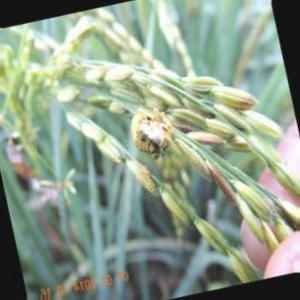Leaf_Scald: (136, 115, 176, 159)
